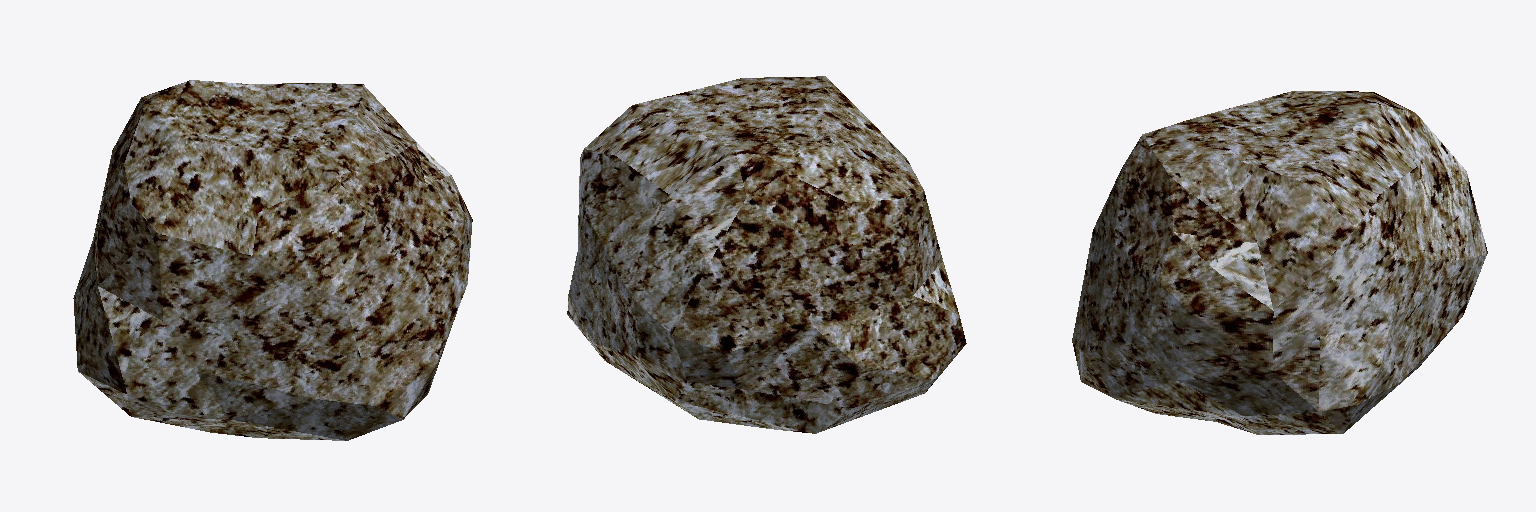
The picture shows the model from 3 angles: view 1: azimuth 30°, elevation 25°; view 2: azimuth 150°, elevation 25°; view 3: azimuth 270°, elevation 25°; orthographic projection.
Size of the model in its own units: 8.23 by 6.56 by 8.57.
Materials: 1 (1 with a texture image).